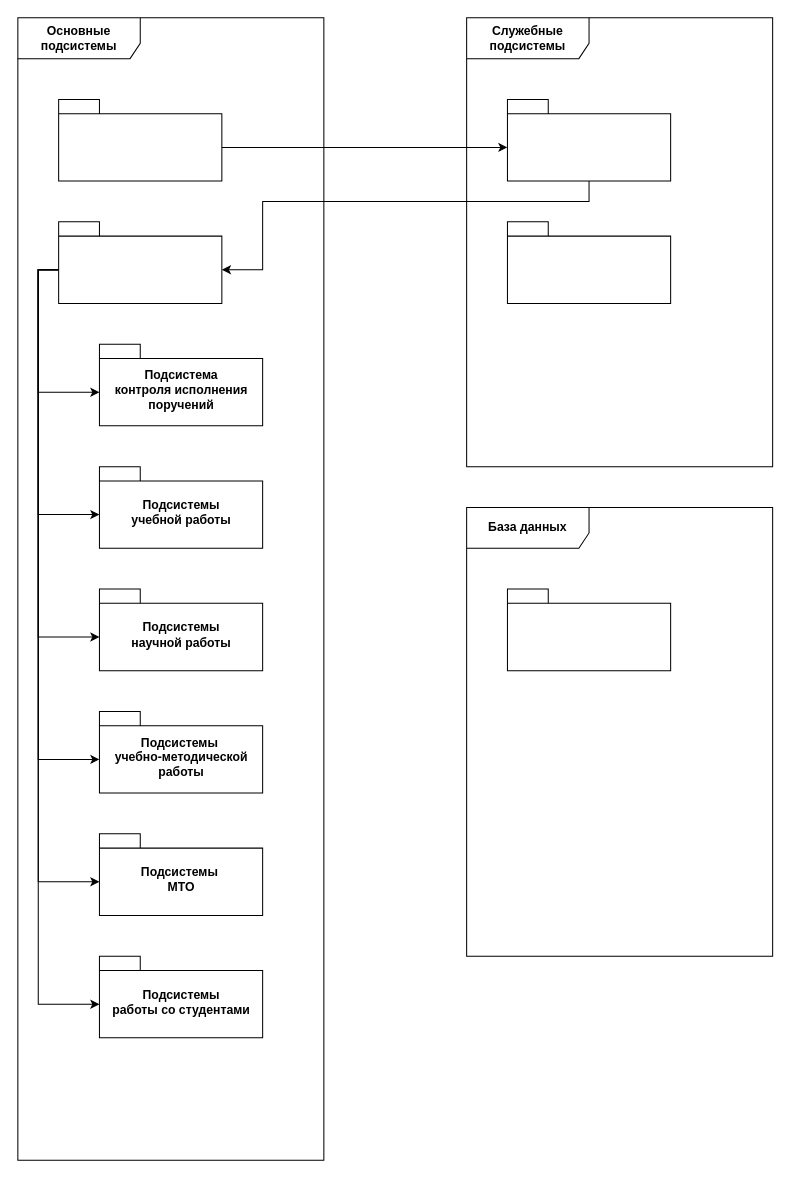
This 791x1178 diagram has some shape labels left out. Each missing label, with the centre of its shape:
"Данные предметной области" belongs at pixel 588 629.
"Подсистема администрирования" belongs at pixel 588 262.
"Подсистема кадров" belongs at pixel 140 139.
"Подсистема пользователей" belongs at pixel 588 139.
"Подсистема хранения материалов" belongs at pixel 140 262.
